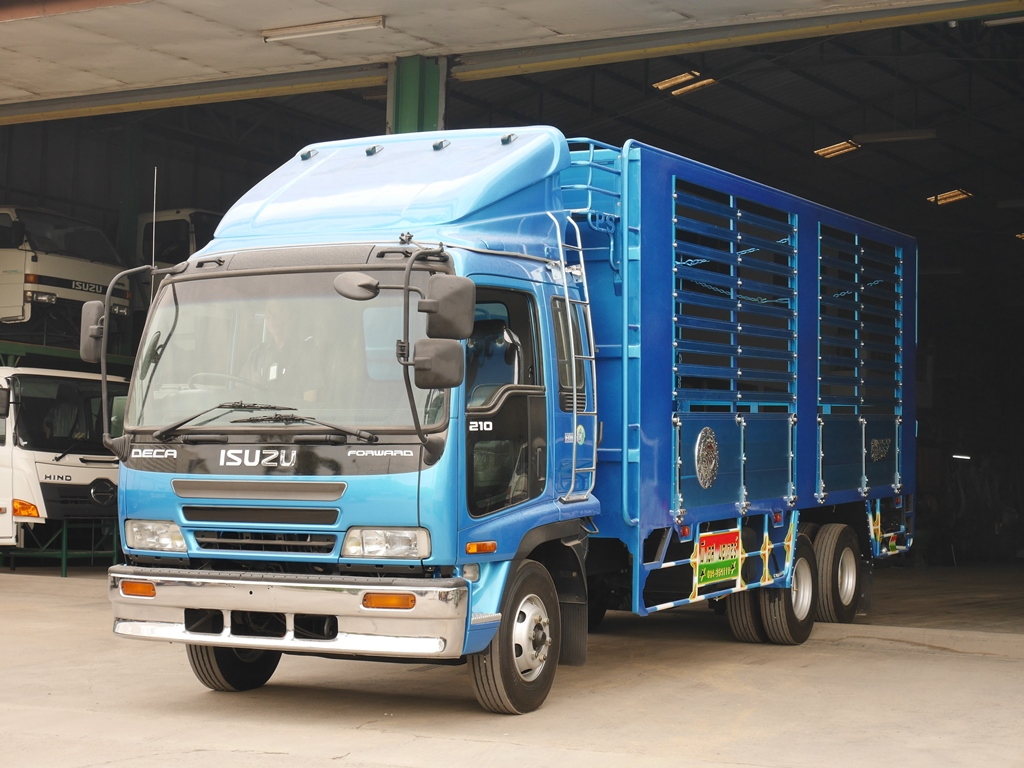truck: (104, 123, 597, 715)
